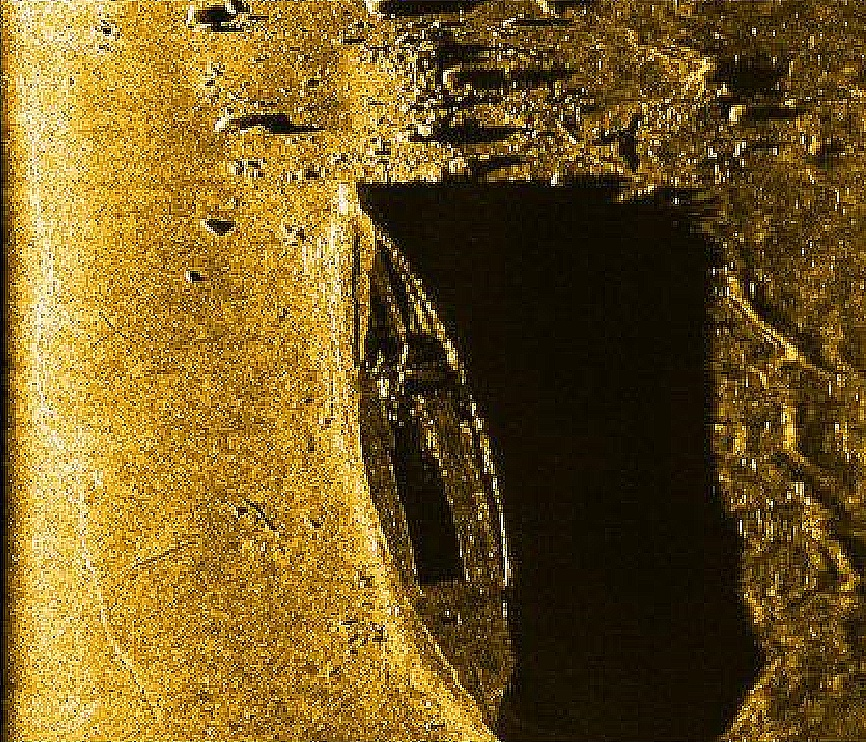ship: (329, 180, 514, 741)
